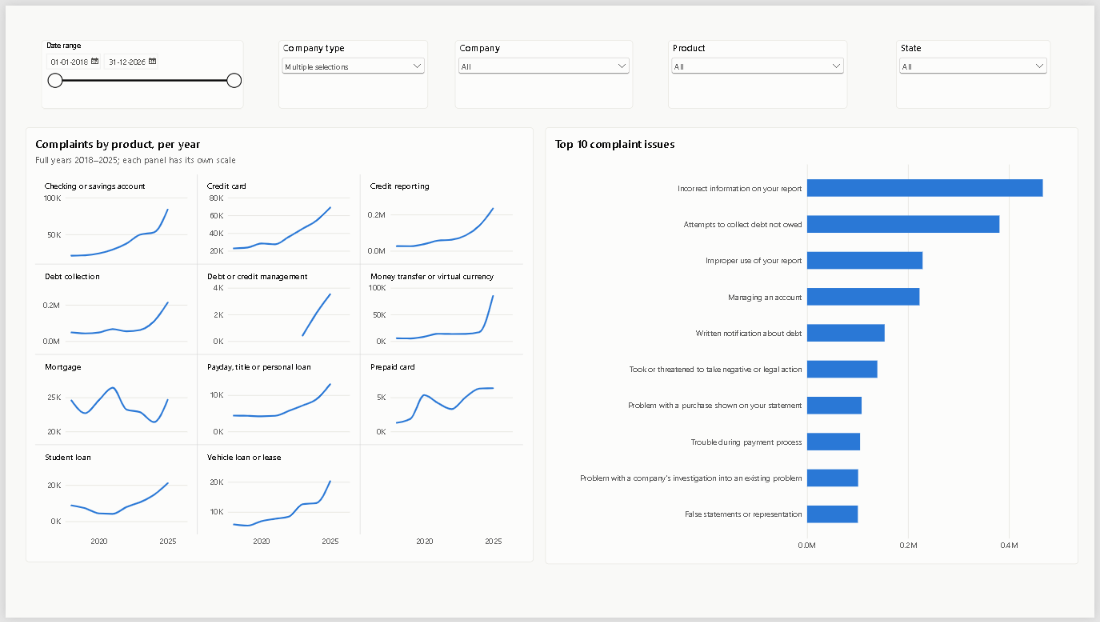

The dashboard page shown, as its layout file describes it:
{"tool":"powerbi","page":{"name":"Product & Issue Trends","canvas":[1920,1080],"ordinal":1},"visuals":[{"type":"slicer","fields":{"Values":["dim_date.date"]},"box":[63.8,61.5,356.8,120.5],"z":0},{"type":"slicer","fields":{"Values":["dim_company.company_type"]},"box":[482,61.5,263.6,120.5],"z":1000},{"type":"slicer","fields":{"Values":["dim_company.company_name"]},"box":[793.4,61.5,313.6,120.5],"z":2000},{"type":"slicer","fields":{"Values":["dim_product.product_group"]},"box":[1168.4,61.5,315.9,120.5],"z":3000},{"type":"slicer","fields":{"Values":["dim_geography.state_name"]},"box":[1570.7,61.5,272.7,120.5],"z":4000},{"type":"lineChart","title":"Complaints by product, per year","fields":{"Category":["dim_date.year"],"Rows":["dim_product.product_group"],"Y":["_Measures.Complaints"]},"box":[35.9,215.4,896.1,766.7],"z":5000},{"type":"clusteredBarChart","title":"Top 10 complaint issues","fields":{"Category":["dim_issue.issue"],"Y":["_Measures.Complaints"]},"box":[951.3,215.4,940,770],"z":6000}]}

Visuals, with their boxes in screenshot pixels (x1, y1, x2, y2), scaled from the page's 1920x1080 canvas onto the 1100x622 screenshot:
slicer - dim_date.date: 37,35,241,105
slicer - dim_company.company_type: 276,35,427,105
slicer - dim_company.company_name: 455,35,634,105
slicer - dim_product.product_group: 669,35,850,105
slicer - dim_geography.state_name: 900,35,1056,105
"Complaints by product, per year" lineChart: 21,124,534,566
"Top 10 complaint issues" clusteredBarChart: 545,124,1084,568
